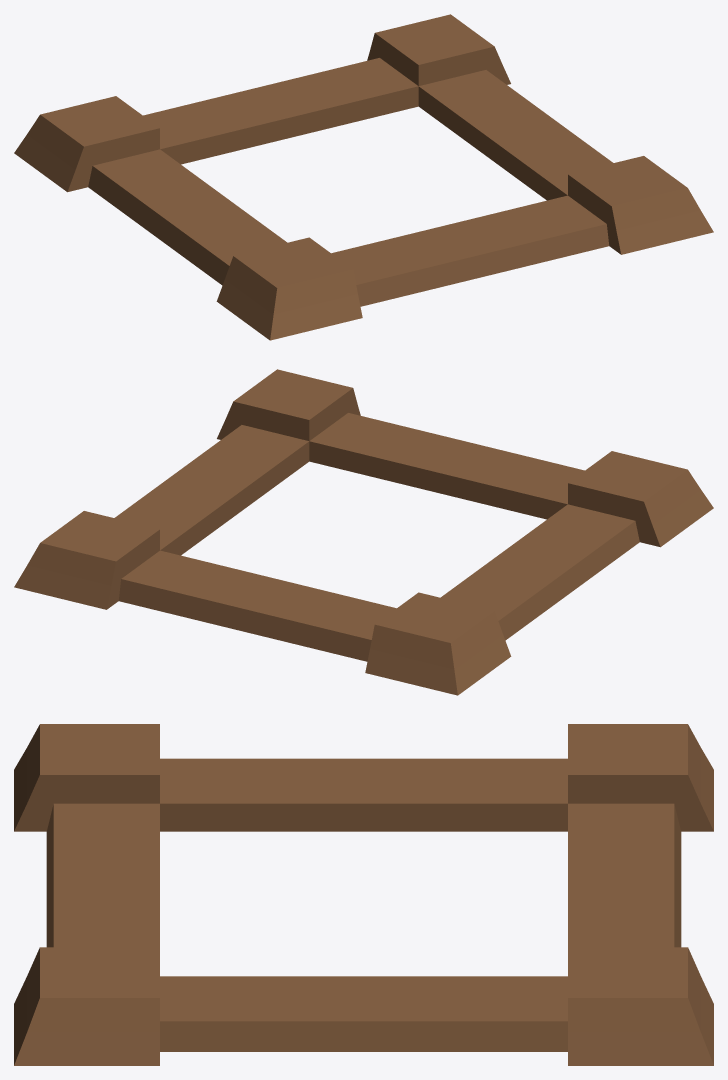
3 views of the same model, one above another, from view 1: azimuth 30°, elevation 25°; view 2: azimuth 150°, elevation 25°; view 3: azimuth 270°, elevation 25° (orthographic). The views are drawn at different scales.
Visible parts, largest first — view 1: pyramid base; view 2: pyramid base; view 3: pyramid base.
Part boxes in pixels (x1=…): pyramid base: x1=14, y1=14, x2=713, y2=340; pyramid base: x1=14, y1=369, x2=713, y2=695; pyramid base: x1=14, y1=724, x2=713, y2=1065.
Bounding box in the file's own units: 1030 × 92.09 × 1029.
